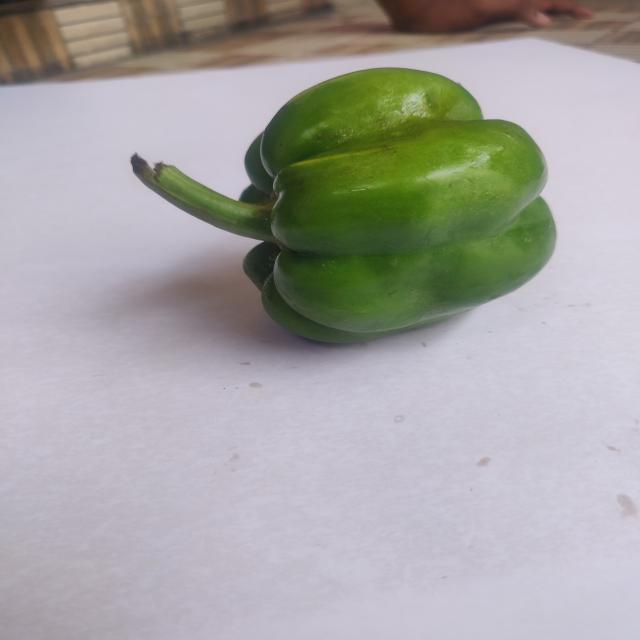Capsicum: (104, 58, 572, 356)
